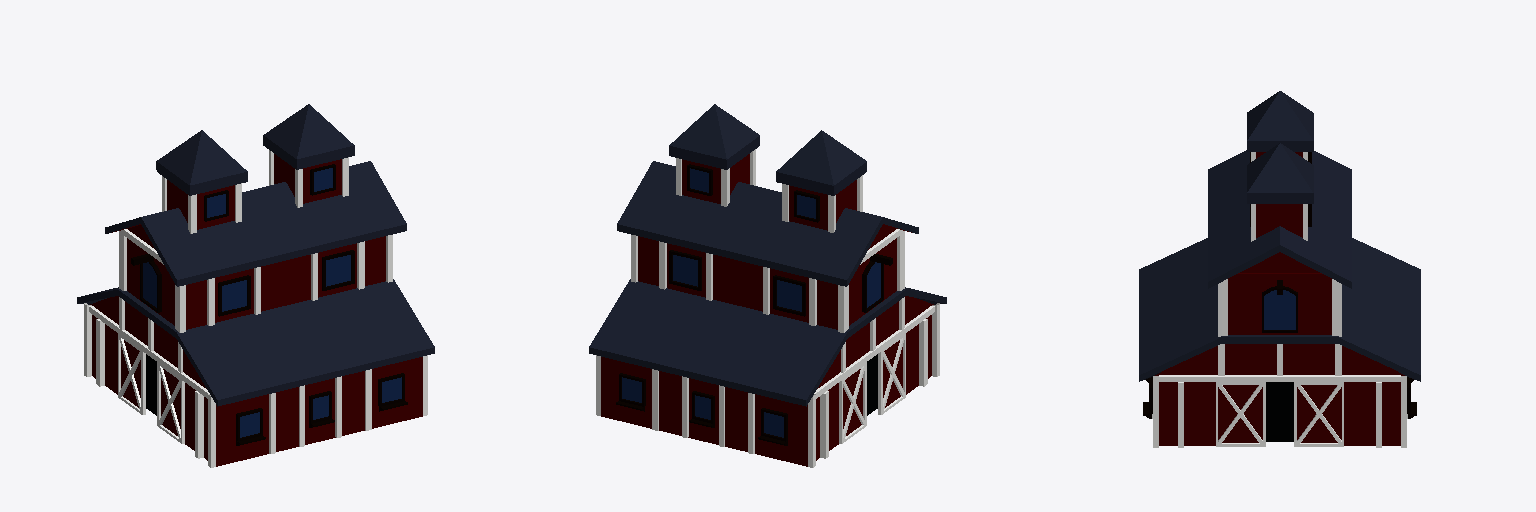
File: SM_Barn_02.obj
The picture shows the model from 3 angles: view 1: azimuth 30°, elevation 25°; view 2: azimuth 150°, elevation 25°; view 3: azimuth 270°, elevation 25°; orthographic projection.
Visible parts, largest first — view 1: SM_Barn:SM_Barn; view 2: SM_Barn:SM_Barn; view 3: SM_Barn:SM_Barn.
Part boxes in pixels (x1,y1,x2,y2): SM_Barn:SM_Barn: (77,104,434,467); SM_Barn:SM_Barn: (589,104,946,467); SM_Barn:SM_Barn: (1139,91,1420,447).
Size of the model in its own units: 21.3 by 22.93 by 20.99.